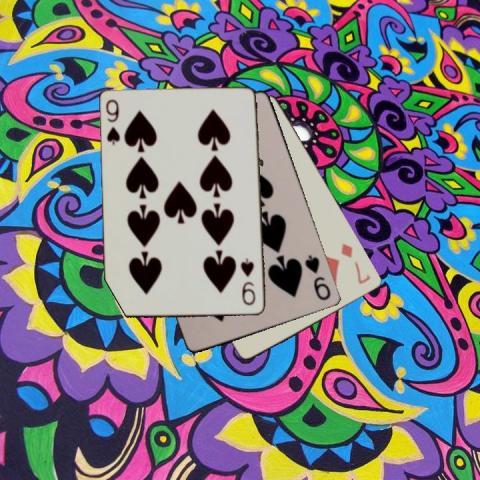7d: (338, 240, 372, 285)
9s: (302, 251, 333, 302), (104, 96, 122, 146), (240, 255, 257, 307)
